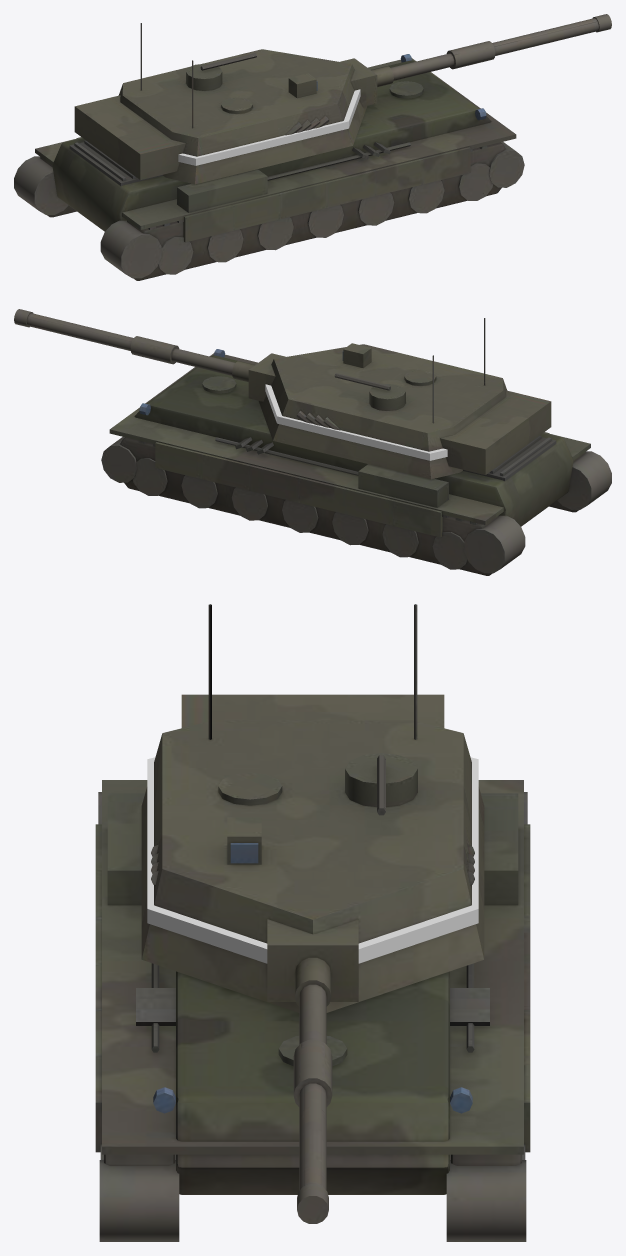
The model's file is leo.glb.
3 renders of one model, top to bottom at view 1: azimuth 30°, elevation 25°; view 2: azimuth 150°, elevation 25°; view 3: azimuth 270°, elevation 25°, orthographic. The views are drawn at different scales.
Visible parts, largest first — view 1: g_leo_hull, g_leo_turret, g_leo_gun; view 2: g_leo_hull, g_leo_turret, g_leo_gun; view 3: g_leo_hull, g_leo_turret, g_leo_gun.
Boxes of the visible parts, x1,y1,x2,y2 form: g_leo_hull: [14, 54, 524, 280]; g_leo_turret: [74, 23, 377, 184]; g_leo_gun: [371, 14, 611, 86]; g_leo_hull: [101, 349, 611, 575]; g_leo_turret: [248, 318, 551, 479]; g_leo_gun: [14, 309, 254, 381]; g_leo_hull: [95, 780, 530, 1241]; g_leo_turret: [141, 604, 484, 1012]; g_leo_gun: [293, 957, 332, 1223].
Bounding box in the file's own units: 10.93 × 3.54 × 3.81.
Materials: 4 (3 with a texture image).
